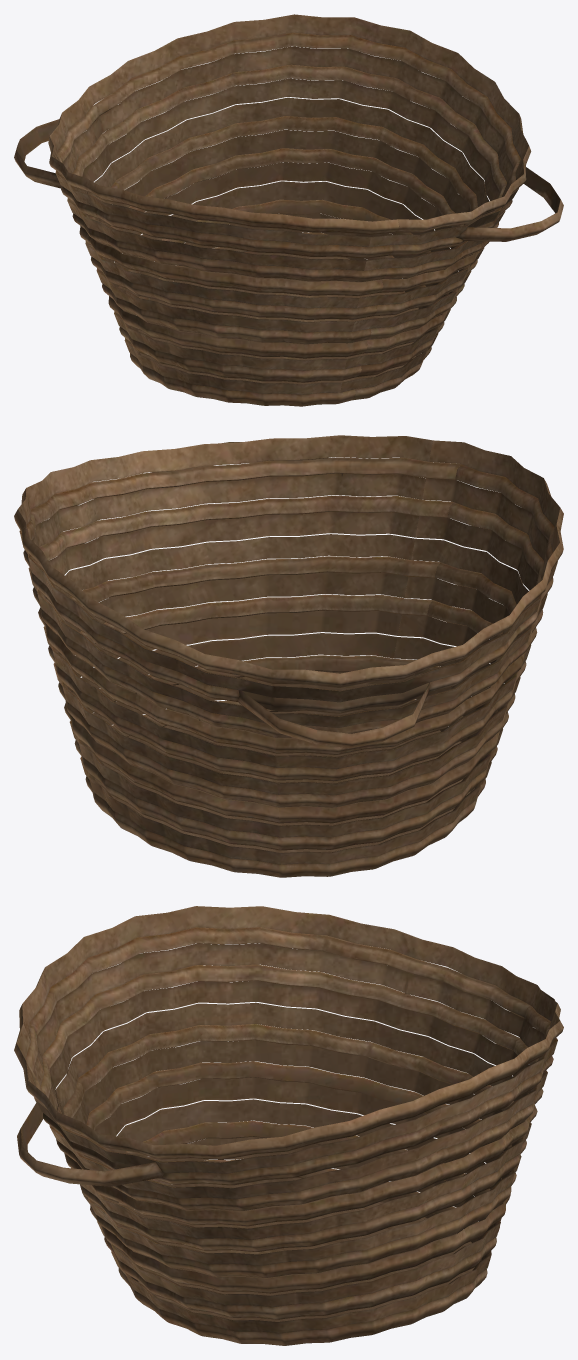
Rendered from realbasket.glb.
3 renders of one model, top to bottom at view 1: azimuth 30°, elevation 25°; view 2: azimuth 150°, elevation 25°; view 3: azimuth 270°, elevation 25°, orthographic. The views are drawn at different scales.
Parts seen in each view (by area): view 1: basket_0; view 2: basket_0; view 3: basket_0.
Part boxes in pixels (x1,y1,x2,y2): basket_0: (14,14,563,406); basket_0: (14,435,563,877); basket_0: (14,906,563,1345).
Size of the model in its own units: 0.2996 by 0.1703 by 0.3.
1 material, 1 textured.
